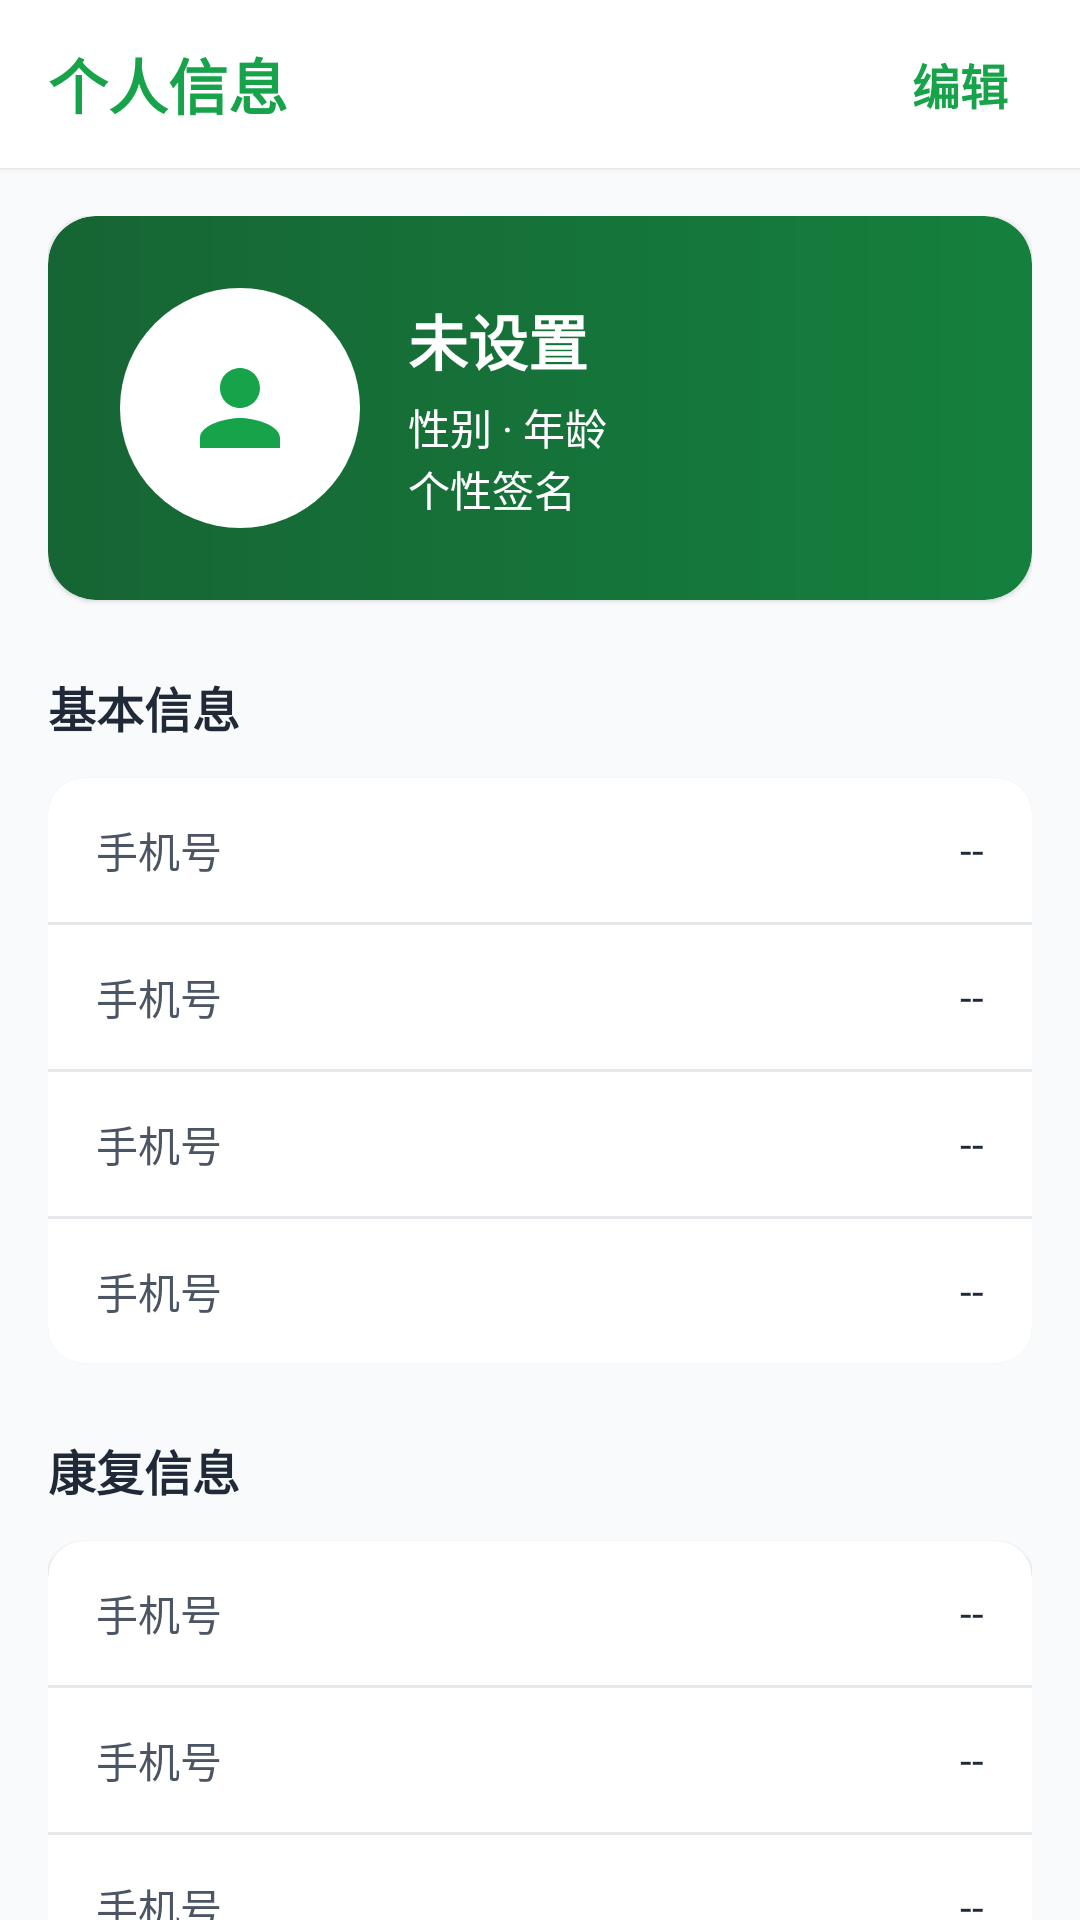

Icon click points for this 1080px x 1920px phone screenshot, format (x=x, y=y):
user: (x=240, y=408)
